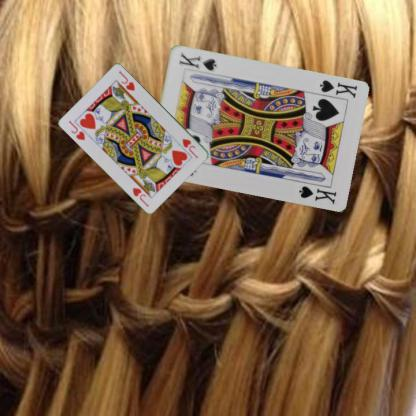Jh: (66, 118, 86, 141), (180, 136, 199, 159)
Ks: (317, 78, 358, 100)
